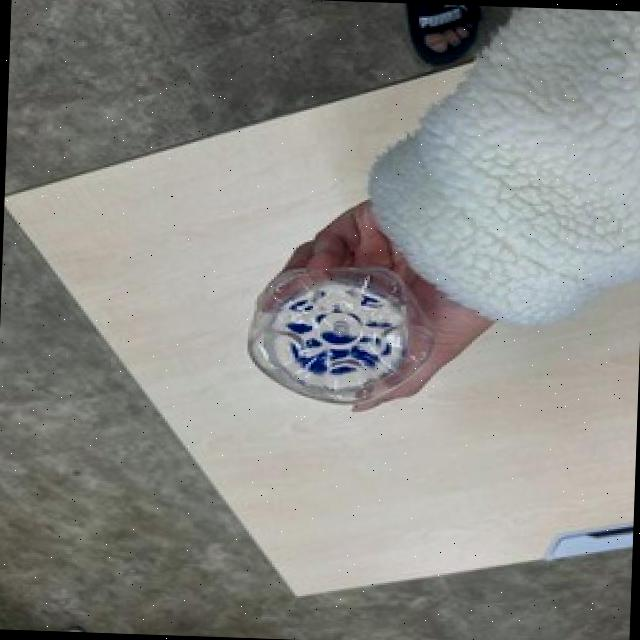bottle: (240, 242, 442, 425)
